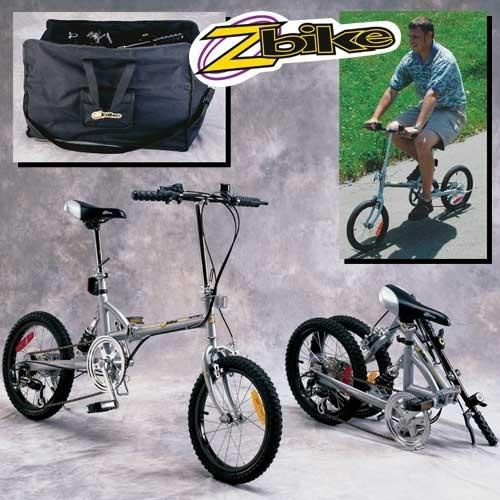non-vehicle: (2, 176, 285, 488), (284, 274, 498, 454), (343, 117, 475, 258)
